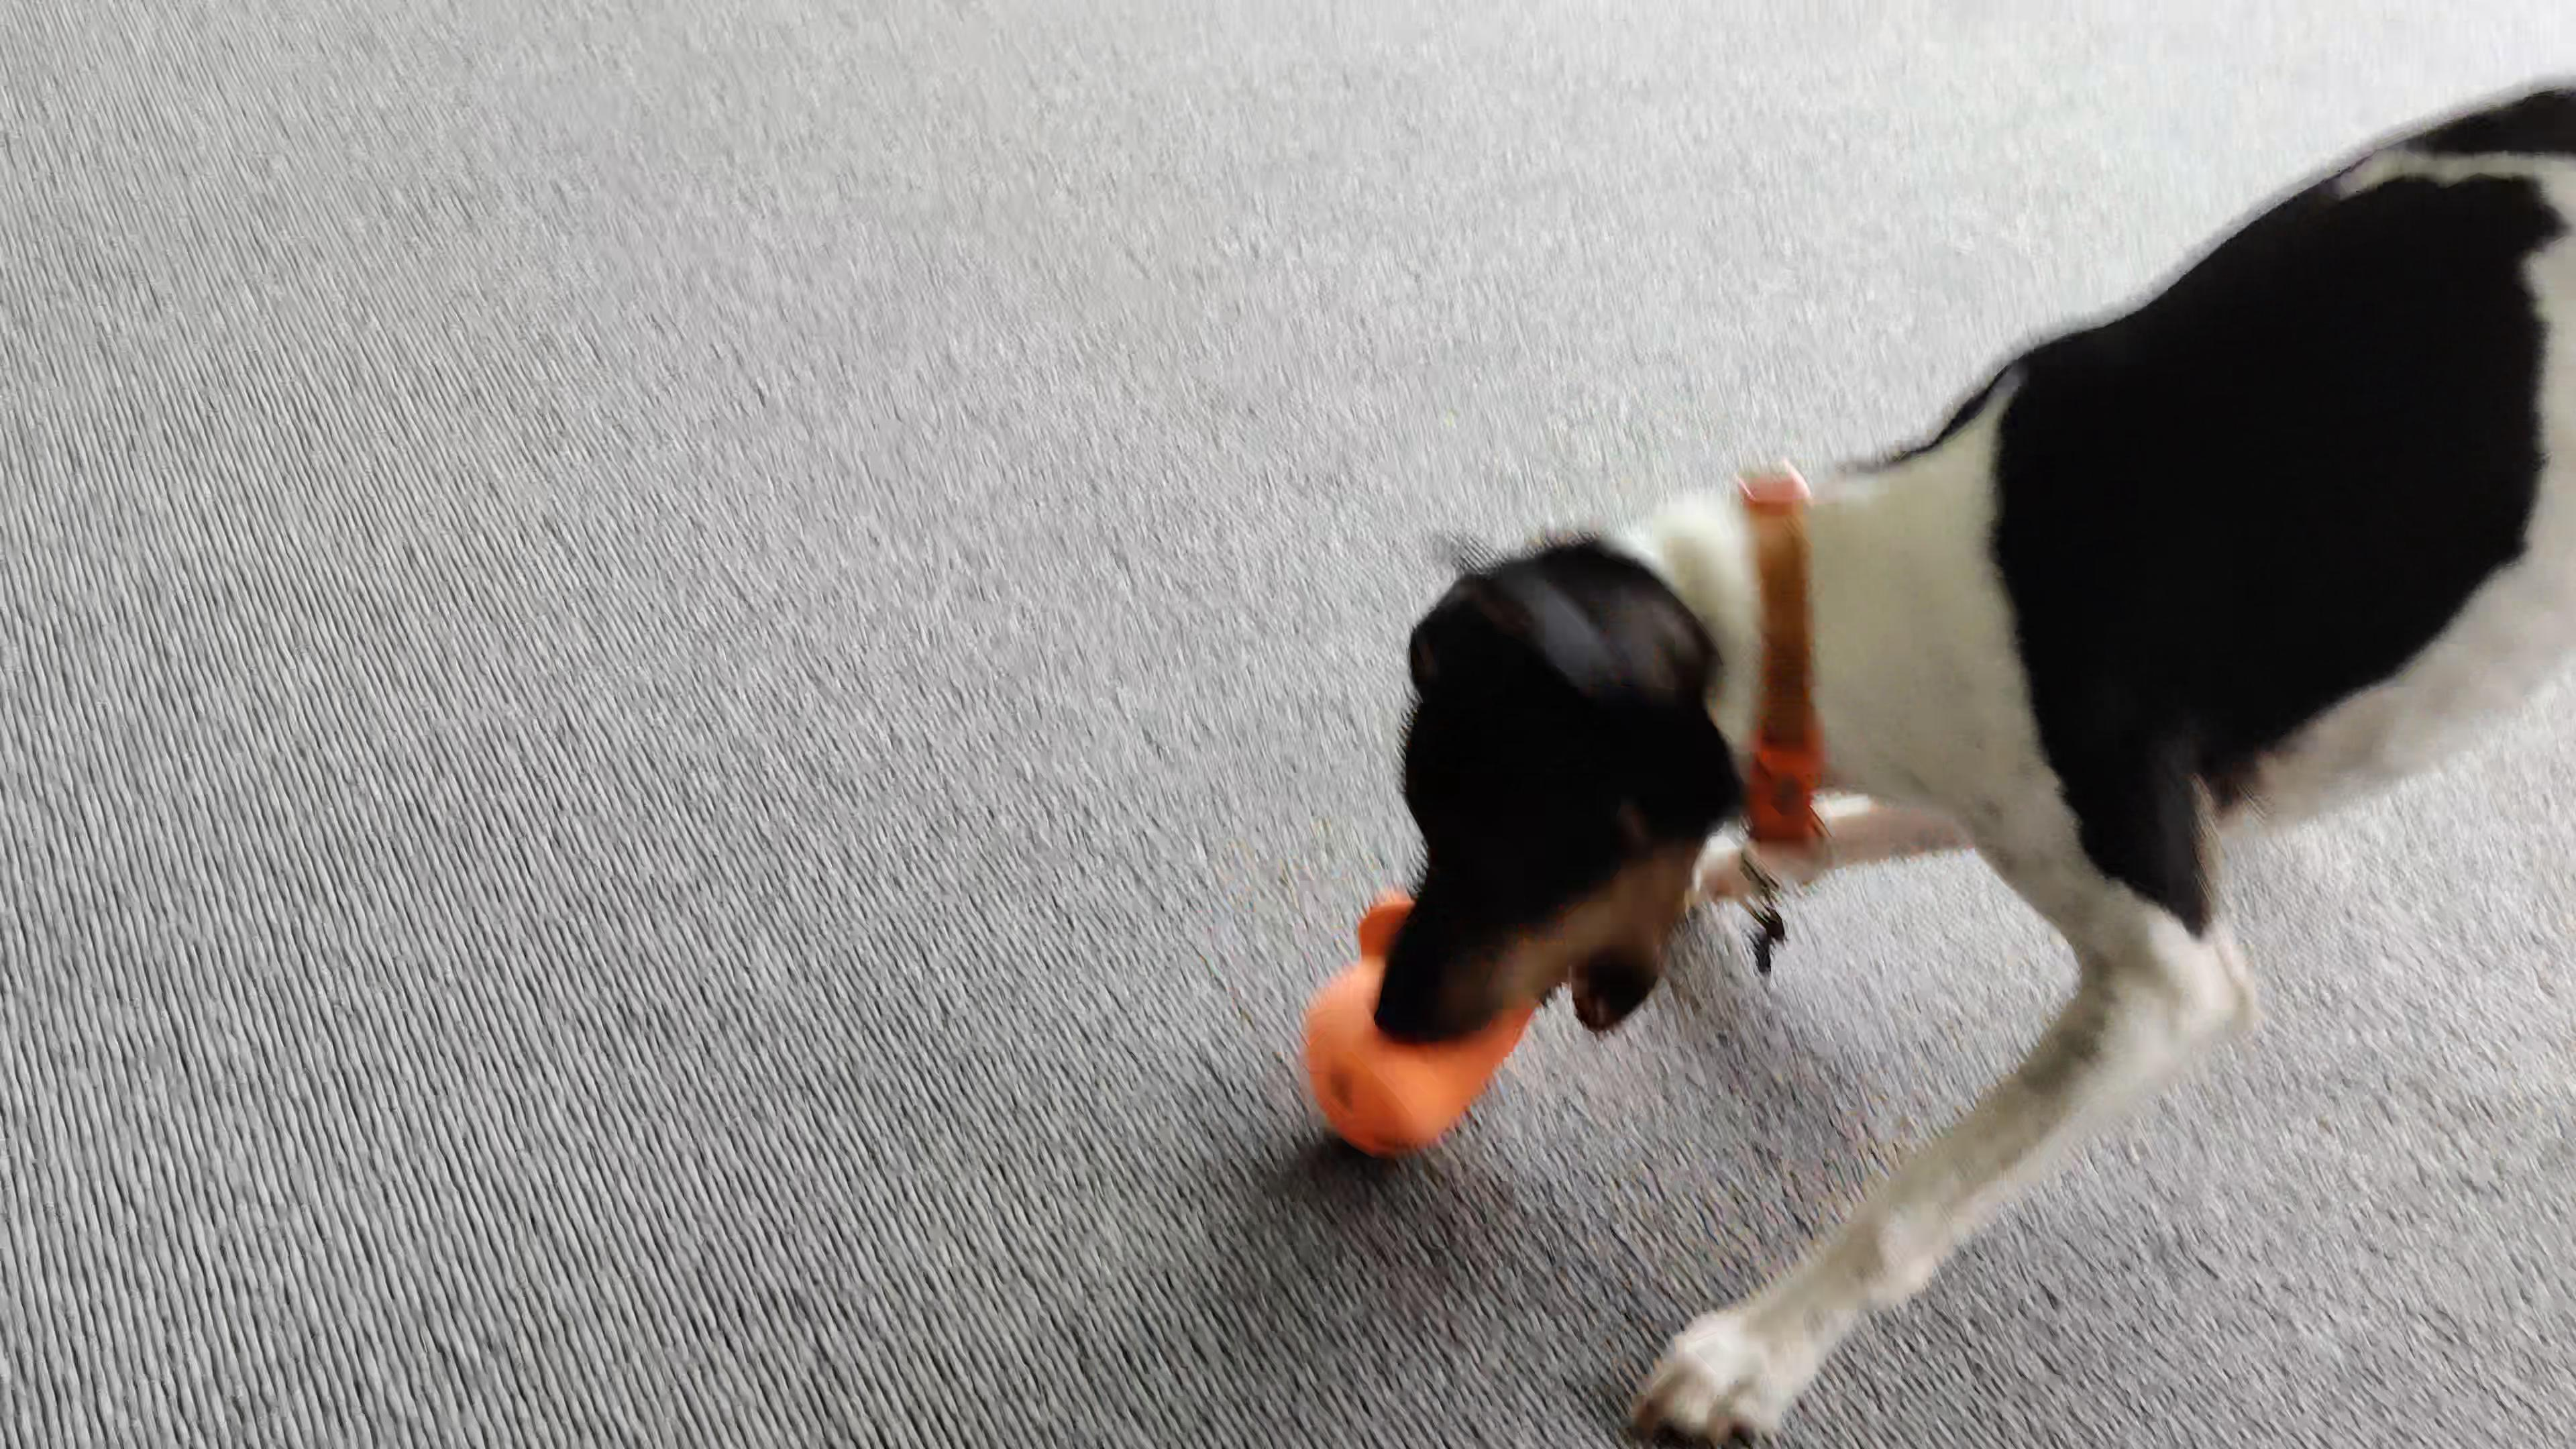Dog: (1361, 71, 2576, 1449)
